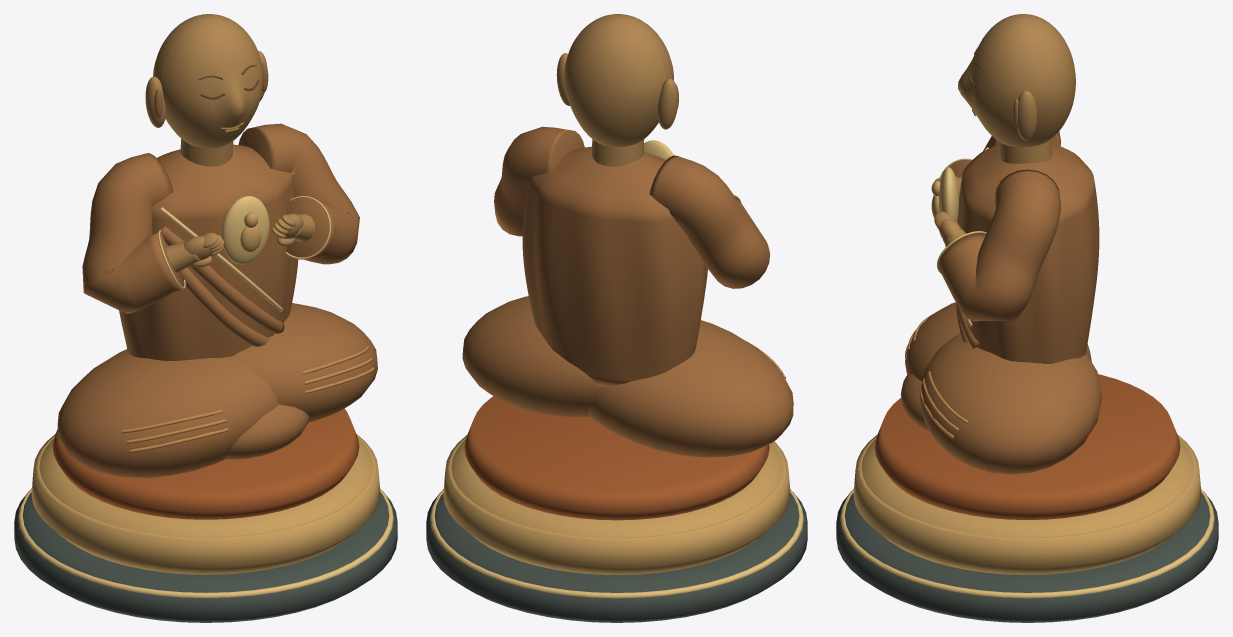
Rendered from arhat_06.glb.
3 views of the same model, side by side, from view 1: azimuth 30°, elevation 25°; view 2: azimuth 150°, elevation 25°; view 3: azimuth 270°, elevation 25° (orthographic).
Parts seen in each view (by area): view 1: arhat_06_ArhatDrapery, arhat_06_AntiqueGold, arhat_06_CarvedPlinth, arhat_06_WarmBronze, arhat_06_SaffronDrapery, arhat_06_RaisedGoldBorders, arhat_06_DraperyFoldHighlights; view 2: arhat_06_ArhatDrapery, arhat_06_SaffronDrapery, arhat_06_AntiqueGold, arhat_06_CarvedPlinth, arhat_06_WarmBronze, arhat_06_RaisedGoldBorders; view 3: arhat_06_ArhatDrapery, arhat_06_SaffronDrapery, arhat_06_AntiqueGold, arhat_06_CarvedPlinth, arhat_06_WarmBronze, arhat_06_RaisedGoldBorders, arhat_06_DraperyFoldHighlights.
Part boxes in pixels (<box>): arhat_06_ArhatDrapery: <box>57,123,377,477</box>; arhat_06_AntiqueGold: <box>31,212,380,574</box>; arhat_06_CarvedPlinth: <box>14,491,397,622</box>; arhat_06_WarmBronze: <box>145,14,314,272</box>; arhat_06_SaffronDrapery: <box>52,408,359,519</box>; arhat_06_RaisedGoldBorders: <box>18,196,393,598</box>; arhat_06_DraperyFoldHighlights: <box>121,346,374,452</box>; arhat_06_ArhatDrapery: <box>462,126,793,457</box>; arhat_06_SaffronDrapery: <box>464,396,769,520</box>; arhat_06_AntiqueGold: <box>443,435,790,574</box>; arhat_06_CarvedPlinth: <box>426,492,807,622</box>; arhat_06_WarmBronze: <box>556,14,678,166</box>; arhat_06_RaisedGoldBorders: <box>430,140,803,598</box>; arhat_06_ArhatDrapery: <box>900,131,1102,474</box>; arhat_06_SaffronDrapery: <box>874,374,1180,519</box>; arhat_06_AntiqueGold: <box>853,180,1201,574</box>; arhat_06_CarvedPlinth: <box>836,492,1218,622</box>; arhat_06_WarmBronze: <box>934,14,1075,246</box>; arhat_06_RaisedGoldBorders: <box>840,147,1214,598</box>; arhat_06_DraperyFoldHighlights: <box>905,316,967,438</box>.
Size of the model in its own units: 0.92 by 1.4 by 0.92.
